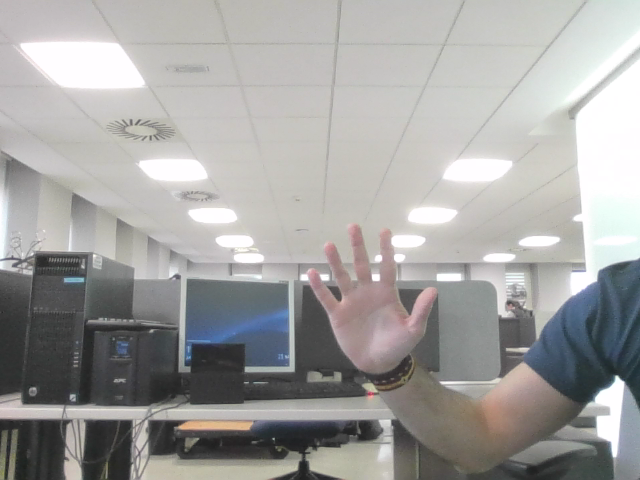Mano Abierta: (316, 235, 425, 346)
